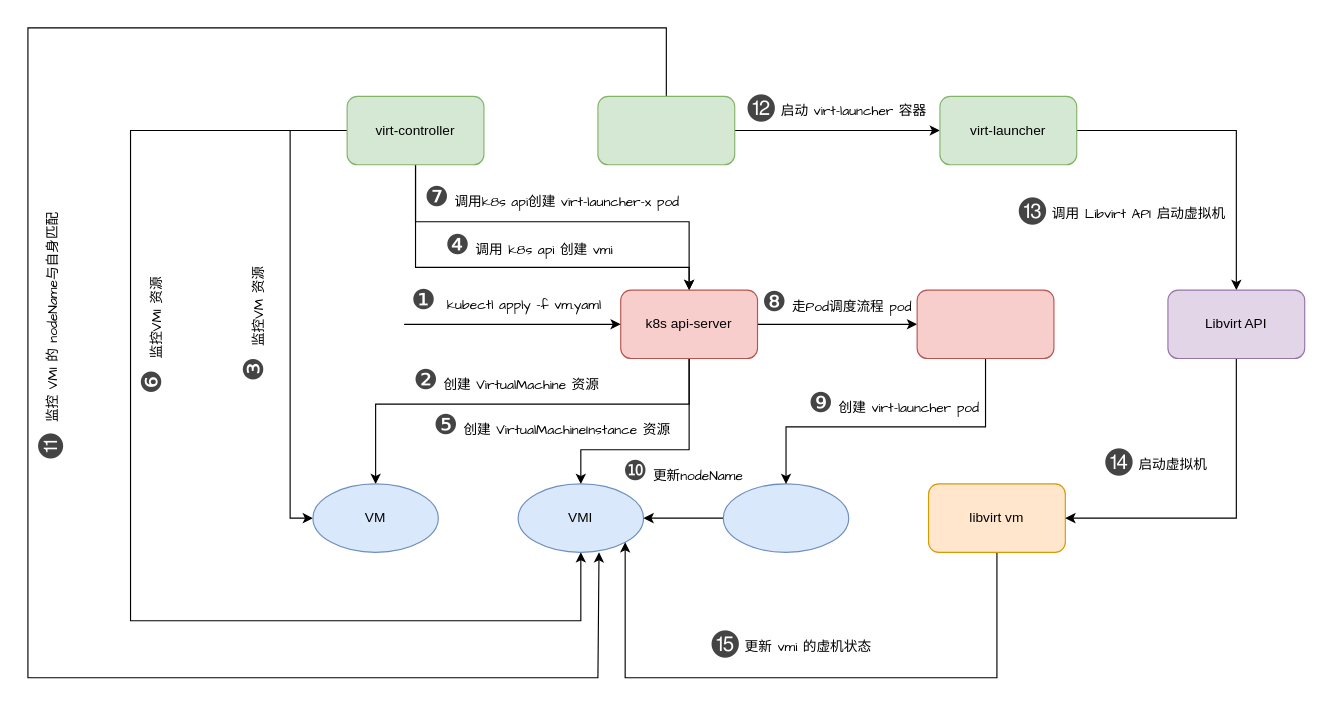
Some shapes in this 1325 by 707 pixel diagram are drawn without their labels. Each missing label, with the centre of its shape:
"k8s kube-scheduler" goes at pixel 985 324.
"virt-handler" goes at pixel 666 130.
"VMI Pod" goes at pixel 785 517.
